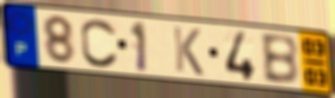1: (128, 20, 151, 75)
4: (224, 28, 258, 83)
8: (40, 14, 78, 66)
B: (258, 32, 302, 87)
C: (79, 17, 120, 70)
K: (171, 24, 206, 78)
